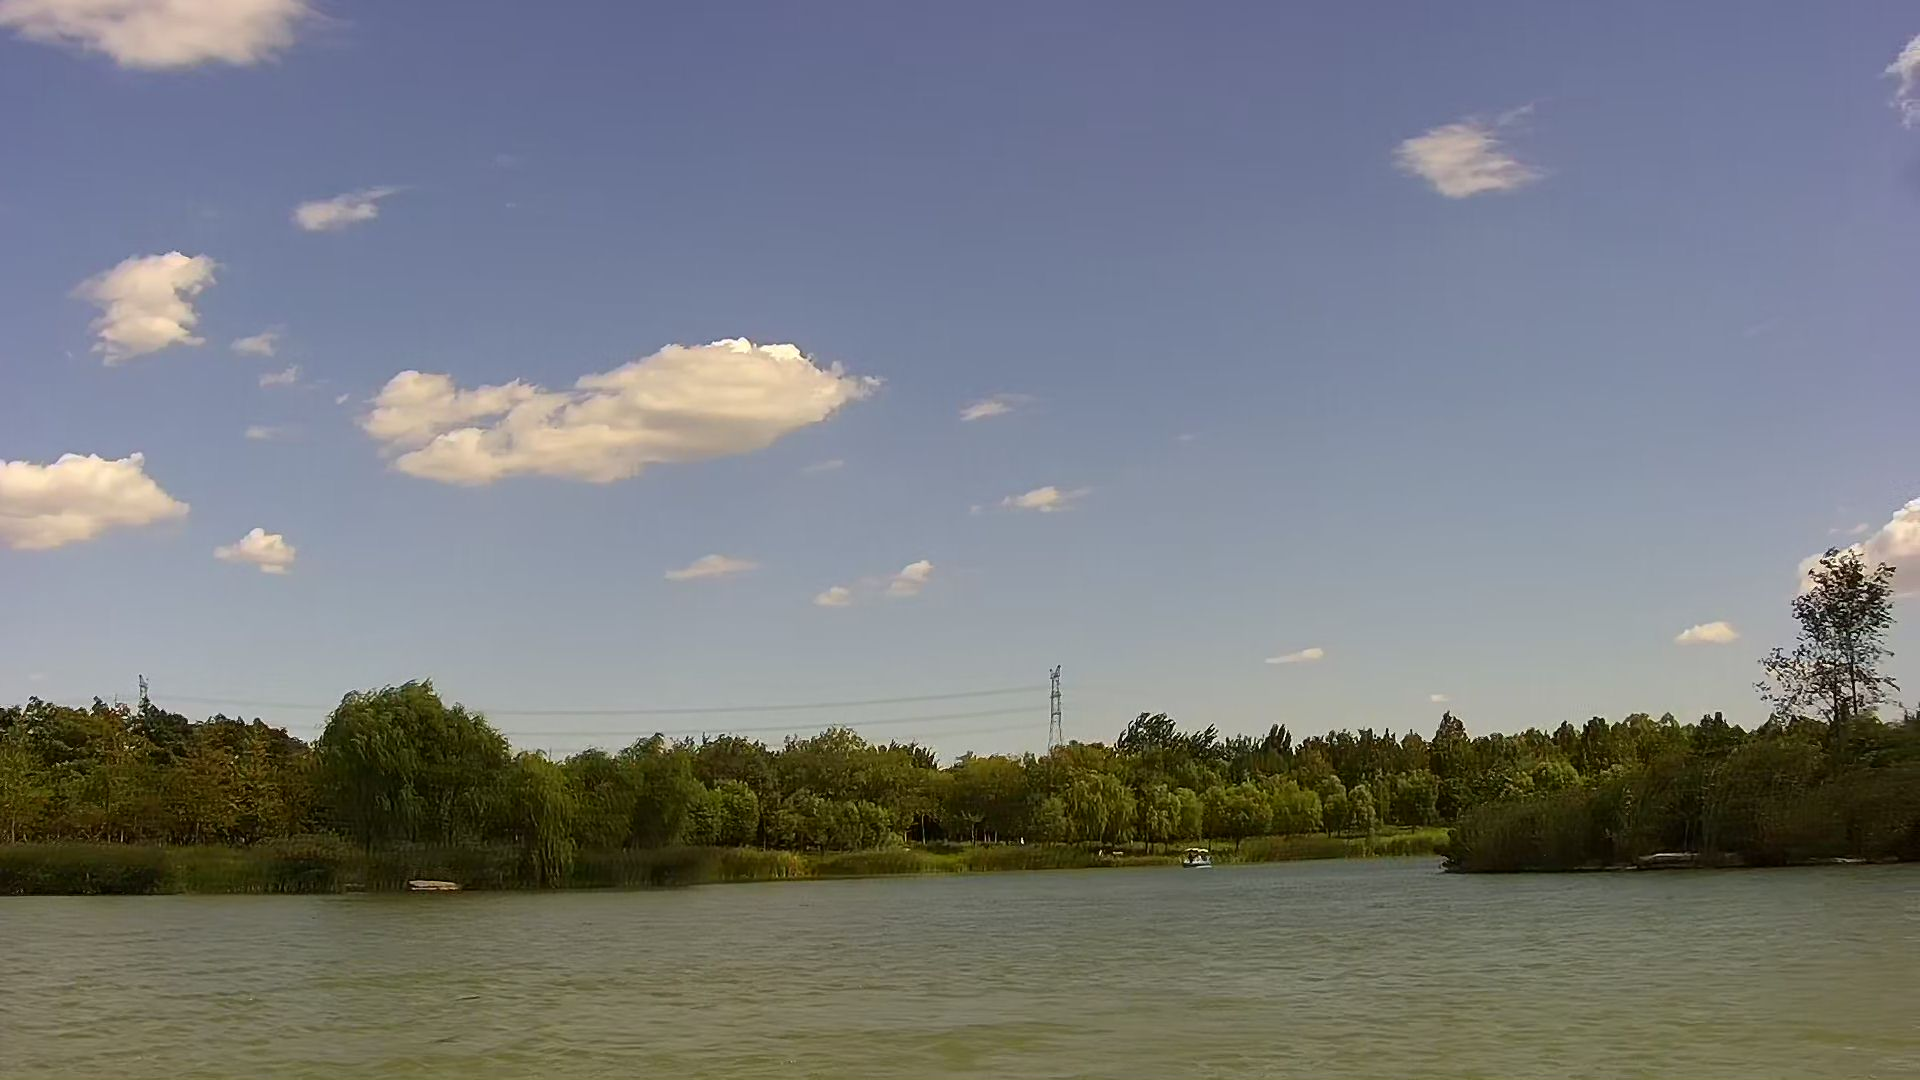boat: (1183, 845, 1208, 866)
rock: (1639, 851, 1717, 866), (411, 877, 458, 891)
